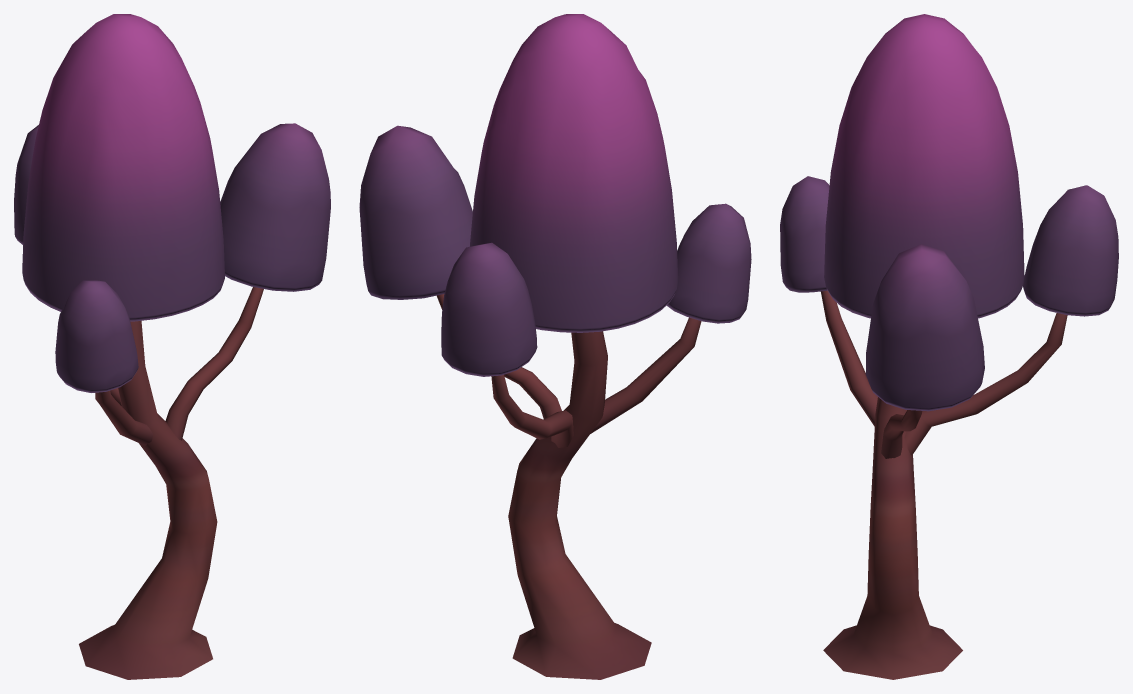
File: arboles4.fbx
3 renders of one model, left to right at view 1: azimuth 30°, elevation 25°; view 2: azimuth 150°, elevation 25°; view 3: azimuth 270°, elevation 25°, orthographic. The views are drawn at different scales.
Parts seen in each view (by area): view 1: Tree.022_Base_Material_0.001; view 2: Tree.022_Base_Material_0.001; view 3: Tree.022_Base_Material_0.001.
Boxes of the visible parts, x1,y1,x2,y2 form: Tree.022_Base_Material_0.001: (14,14,330,679); Tree.022_Base_Material_0.001: (359,14,751,679); Tree.022_Base_Material_0.001: (780,14,1118,679).
Bounding box in the file's own units: 422 × 803 × 392.
